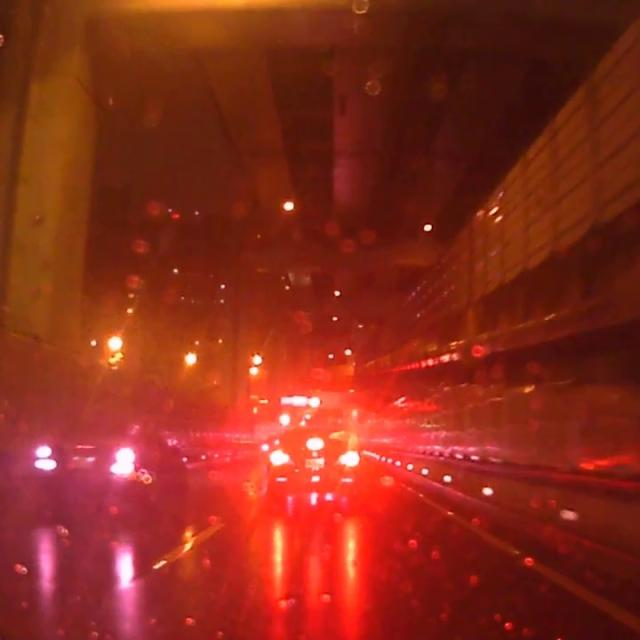Car: (23, 411, 187, 504), (260, 424, 359, 499)
